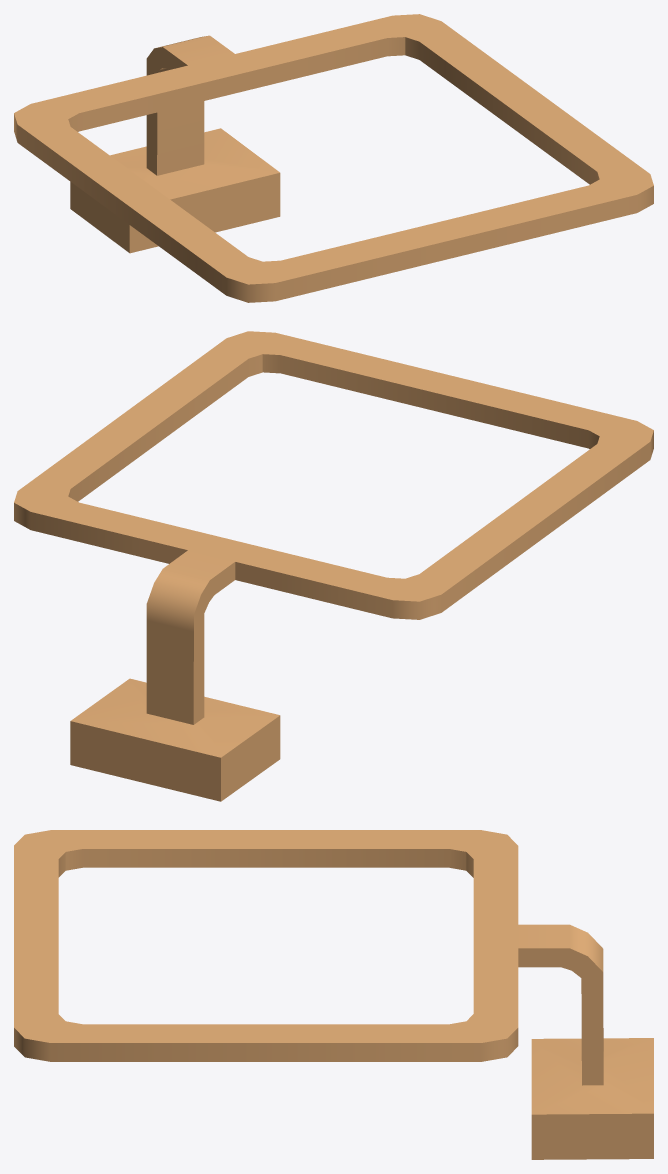
Rendered from mdl_franch_CondorInterface_Selector.gltf.
3 views of the same model, one above another, from view 1: azimuth 30°, elevation 25°; view 2: azimuth 150°, elevation 25°; view 3: azimuth 270°, elevation 25° (orthographic). The views are drawn at different scales.
Visible parts, largest first — view 1: SELECTOR; view 2: SELECTOR; view 3: SELECTOR.
Boxes of the visible parts, x1,y1,x2,y2 form: SELECTOR: (14,14,653,302); SELECTOR: (14,331,653,801); SELECTOR: (14,830,653,1159).
Size of the model in its own units: 0.3743 by 0.1519 by 0.4752.
